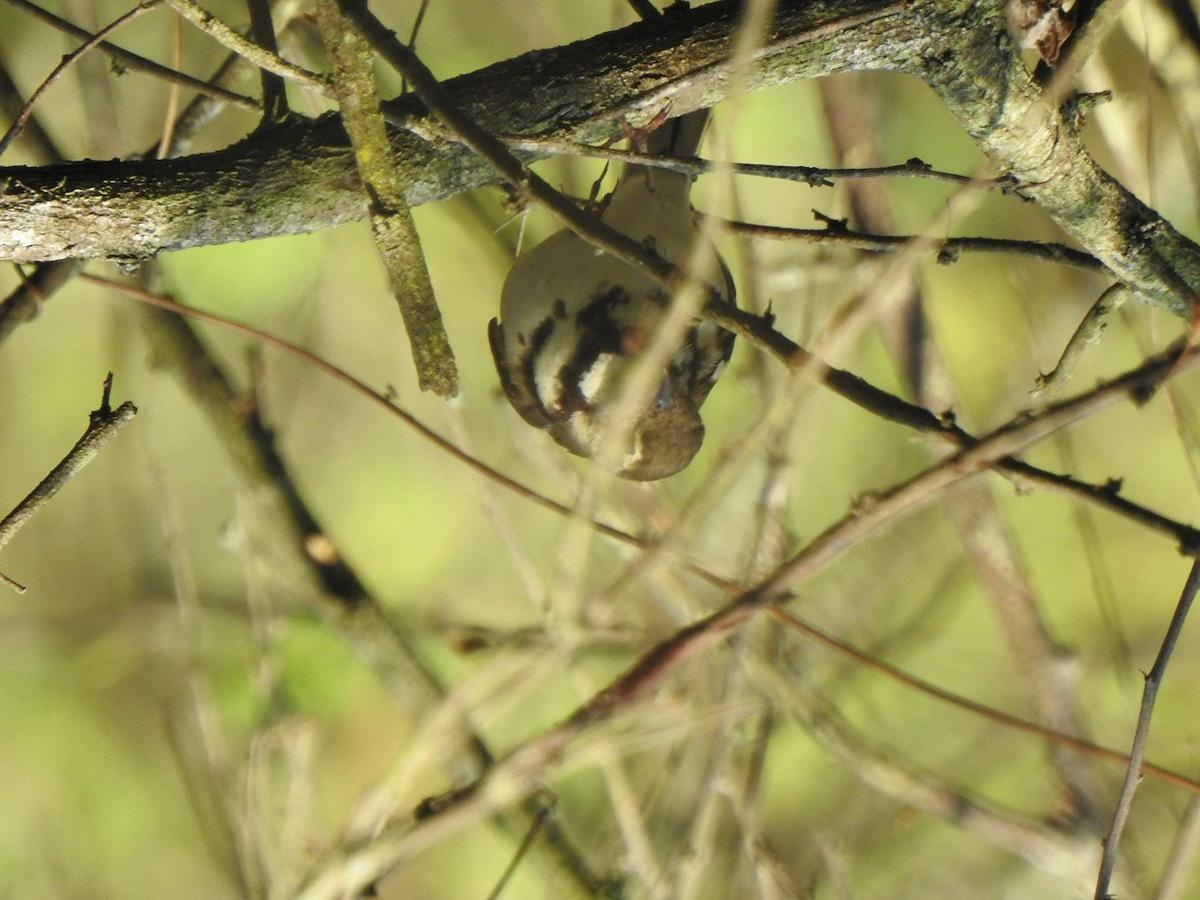wagtail: (491, 164, 773, 484)
